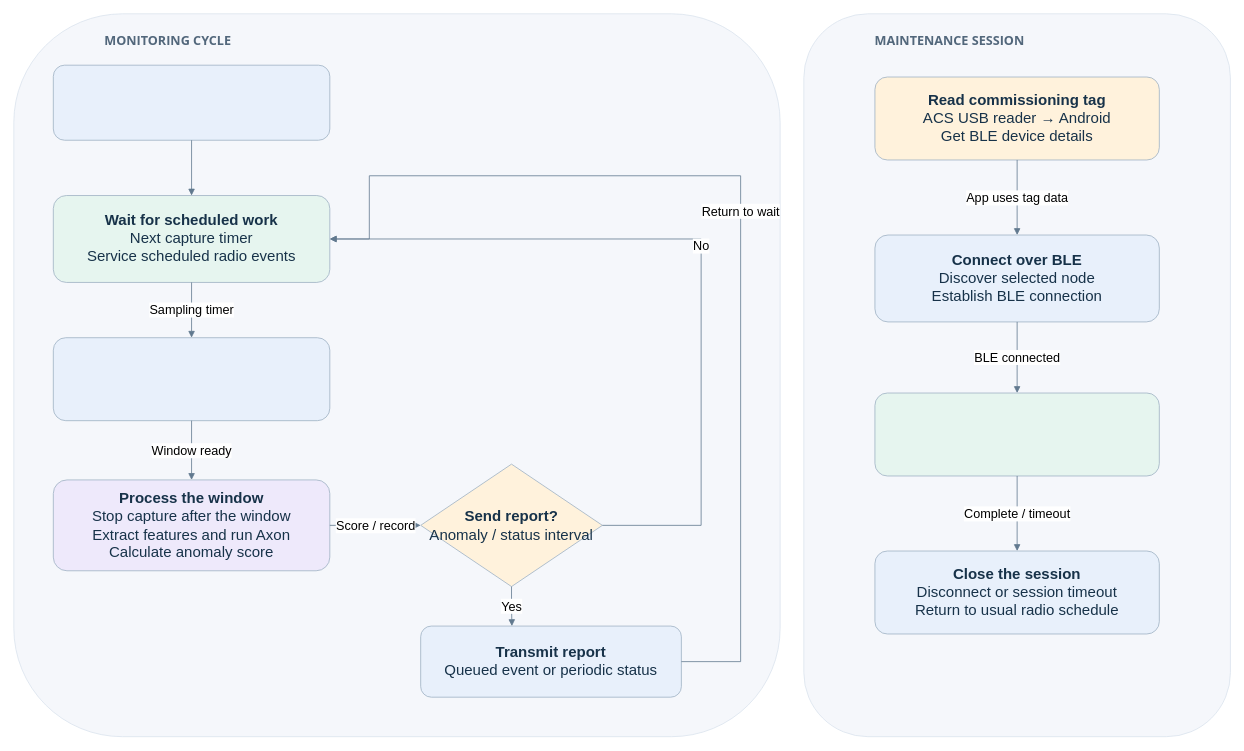
This 1244x751 diagram has some shape labels left out. Here are the shapes that lost their labels. From the top down, the box of each, then its label:
(53, 64, 330, 140): Initialize once Load model and allocate buffers
(53, 337, 330, 421): Capture an audio window Start acquisition Fill aligned sample buffers
(874, 392, 1159, 476): Authorize and retrieve Authenticate app access Read stored event history
